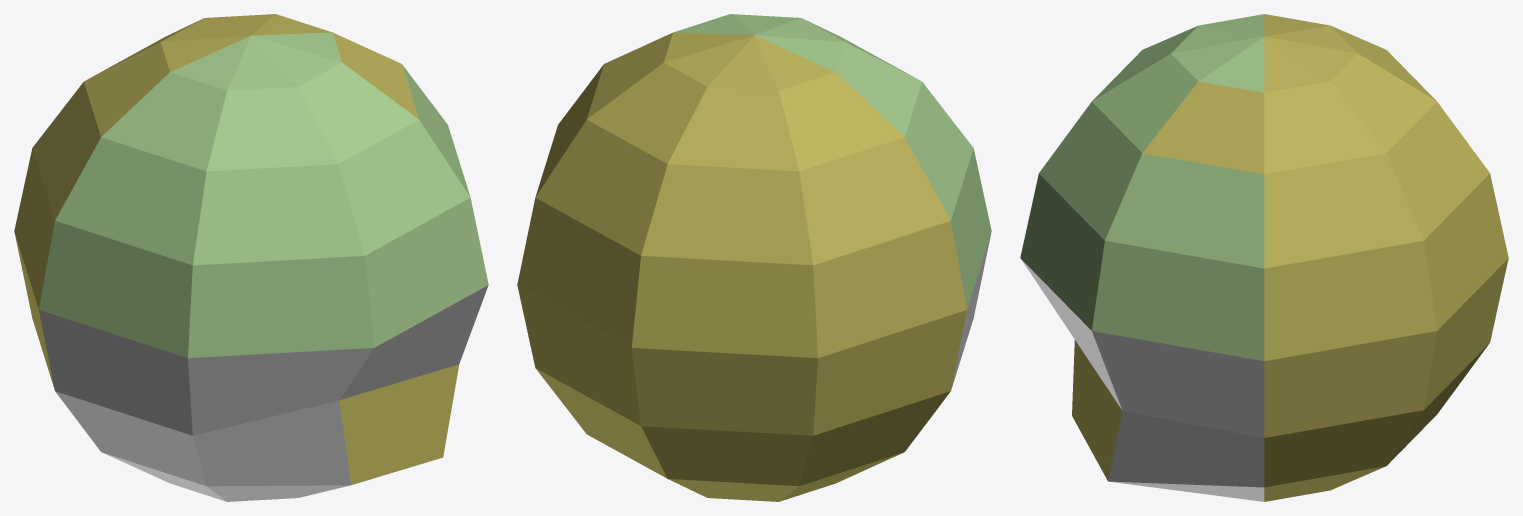
File: stone.glb
3 views of the same model, side by side, from view 1: azimuth 30°, elevation 25°; view 2: azimuth 150°, elevation 25°; view 3: azimuth 270°, elevation 25° (orthographic).
Parts seen in each view (by area): view 1: Sphere; view 2: Sphere; view 3: Sphere.
Boxes of the visible parts, left/top/right/bottom form: Sphere: left=14, top=14, right=488, bottom=501; Sphere: left=517, top=14, right=991, bottom=501; Sphere: left=1020, top=14, right=1508, bottom=501.
Bounding box in the file's own units: 2 × 2 × 2.
